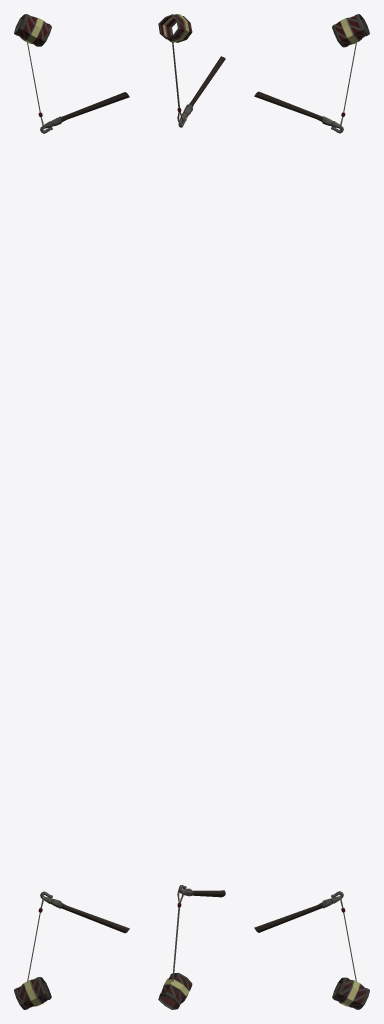
Rendered from mediumBowTacticalProTip.glb.
3 views of the same model, side by side, from view 1: azimuth 90°, elevation 25°; view 2: azimuth 150°, elevation 25°; view 3: azimuth 270°, elevation 25° (orthographic).
Visible parts, largest first — view 1: mediumBowTacticalProTip; view 2: mediumBowTacticalProTip; view 3: mediumBowTacticalProTip.
Part boxes in pixels (bbox=[...]): mediumBowTacticalProTip: bbox=[14, 14, 129, 1009]; mediumBowTacticalProTip: bbox=[158, 14, 225, 1009]; mediumBowTacticalProTip: bbox=[254, 14, 369, 1009].
Size of the model in its own units: 0.0358 by 1.39 by 0.1465.
